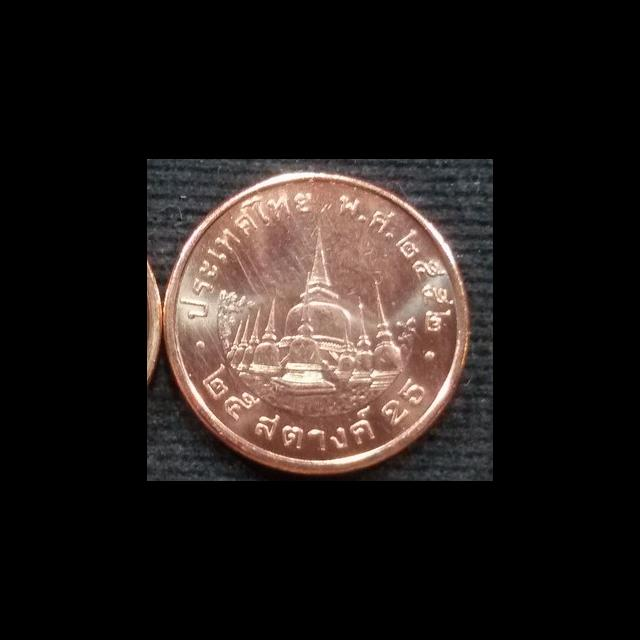25-satang: (148, 159, 493, 481)
